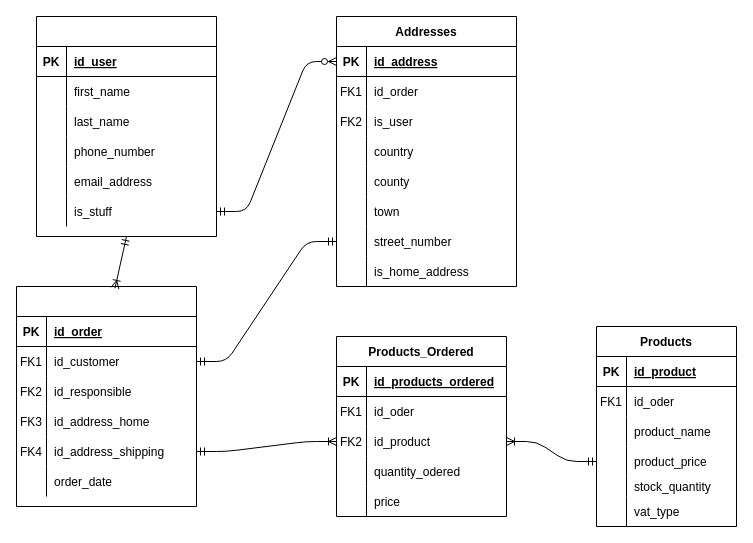
The diagram is 753 pixels wide and 543 high, and some of its shapes have lost their labels. Here are the shapes that lost their labels. From the top down, the box of each, then its label:
(36, 16, 216, 236): users
(16, 286, 196, 506): Orders
